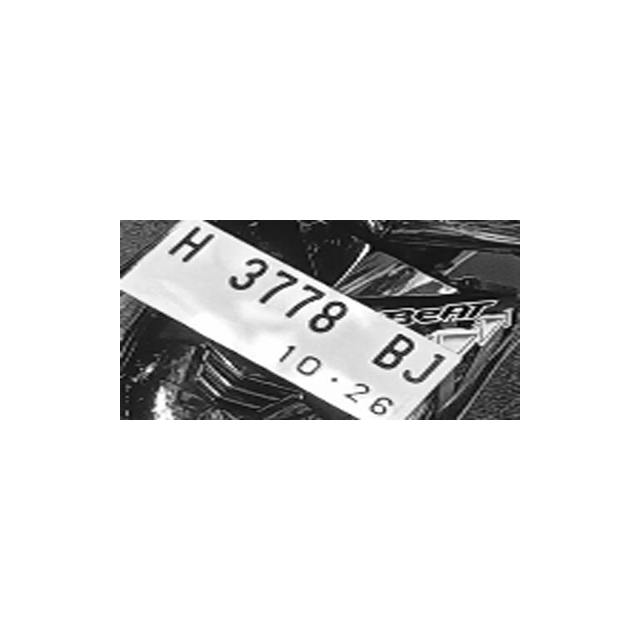contain: (401, 348, 449, 395), (370, 330, 418, 377), (307, 299, 355, 346), (224, 250, 271, 297), (170, 224, 217, 271), (286, 283, 323, 330), (260, 265, 297, 312)
